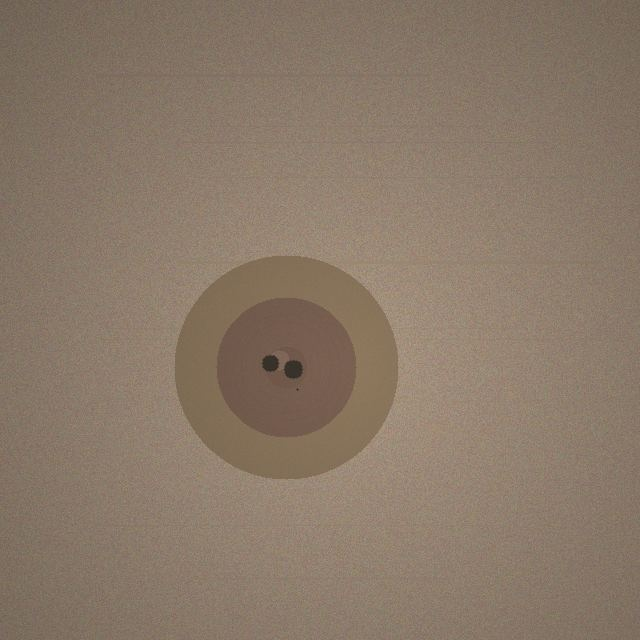shrinkage: (174, 255, 398, 479)
